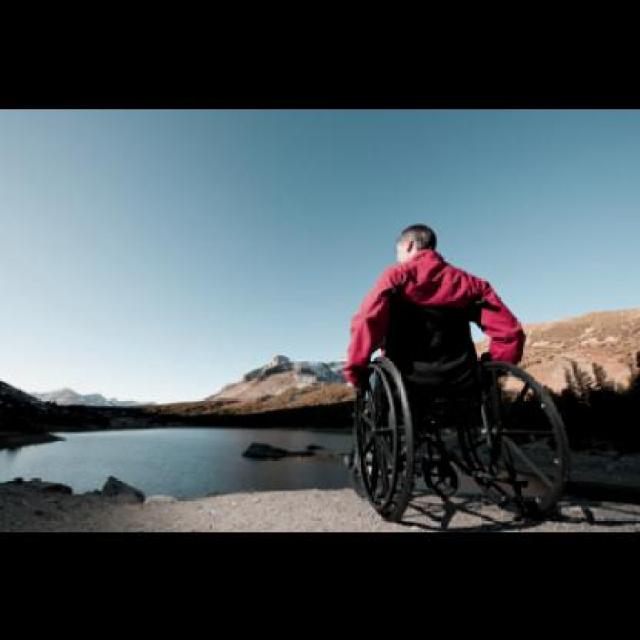wheelchairs: (354, 285, 565, 531)
